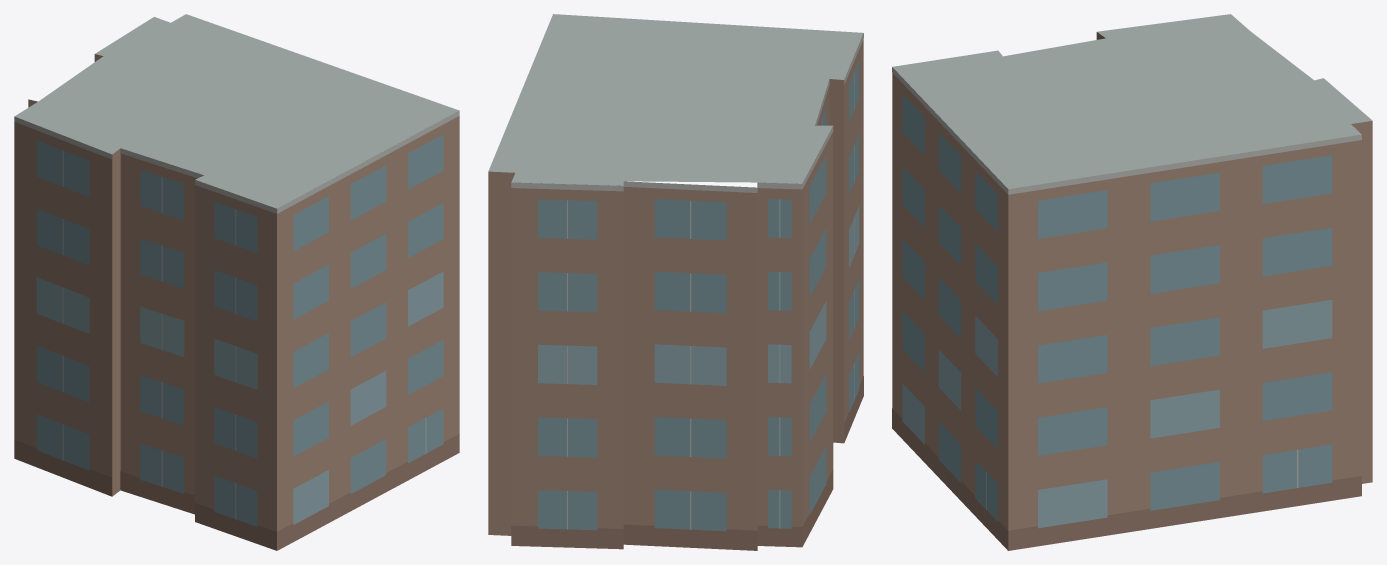
The model's file is survey-upis-32863538.glb.
3 renders of one model, left to right at view 1: azimuth 30°, elevation 25°; view 2: azimuth 150°, elevation 25°; view 3: azimuth 270°, elevation 25°, orthographic. The views are drawn at different scales.
Parts seen in each view (by area): view 1: survey-upis-32863538.tmp; view 2: survey-upis-32863538.tmp; view 3: survey-upis-32863538.tmp.
Part boxes in pixels (bbox=[...]): survey-upis-32863538.tmp: bbox=[14, 14, 459, 550]; survey-upis-32863538.tmp: bbox=[488, 14, 863, 550]; survey-upis-32863538.tmp: bbox=[892, 14, 1372, 550].
Bounding box in the file's own units: 16.75 × 16.1 × 19.41.
